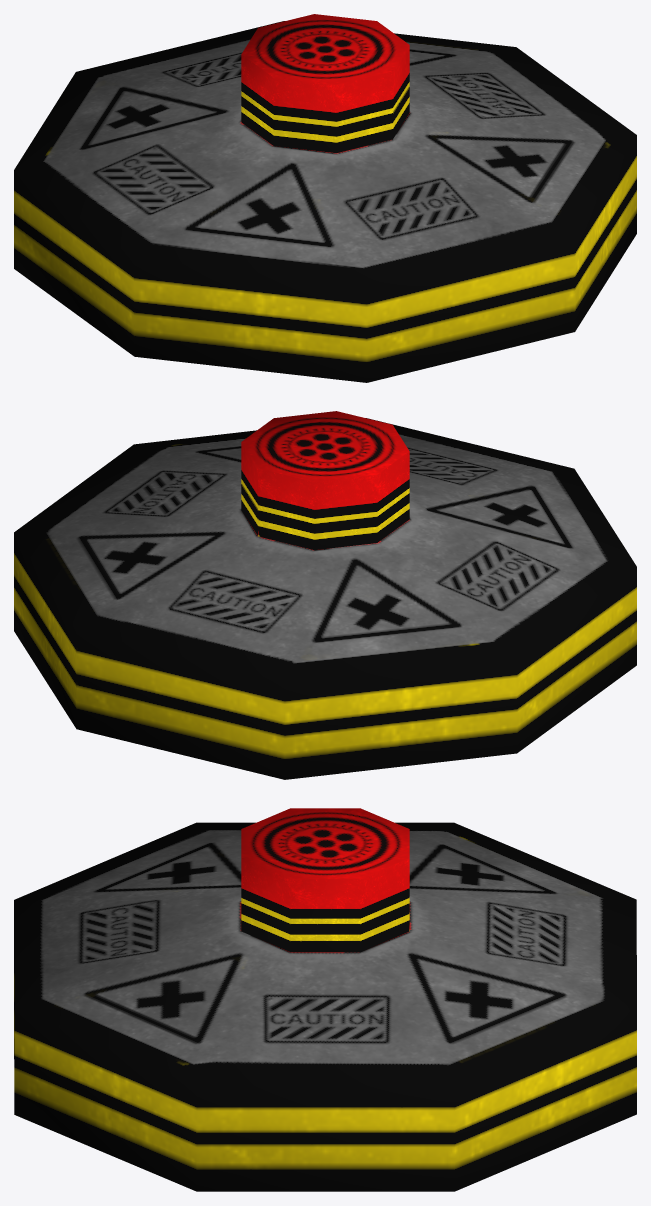
File: mine.fbx
3 views of the same model, one above another, from view 1: azimuth 30°, elevation 25°; view 2: azimuth 150°, elevation 25°; view 3: azimuth 270°, elevation 25° (orthographic). The views are drawn at different scales.
Parts seen in each view (by area): view 1: pCylinder1; view 2: pCylinder1; view 3: pCylinder1.
Boxes of the visible parts, x1=… form: pCylinder1: x1=14, y1=14, x2=636, y2=382; pCylinder1: x1=14, y1=411, x2=636, y2=779; pCylinder1: x1=14, y1=808, x2=636, y2=1191.
Bounding box in the file's own units: 5.97 × 2.29 × 5.97.
